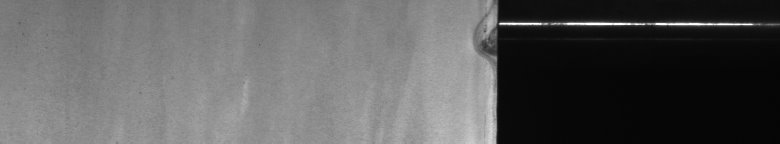hb: (467, 4, 488, 72)
